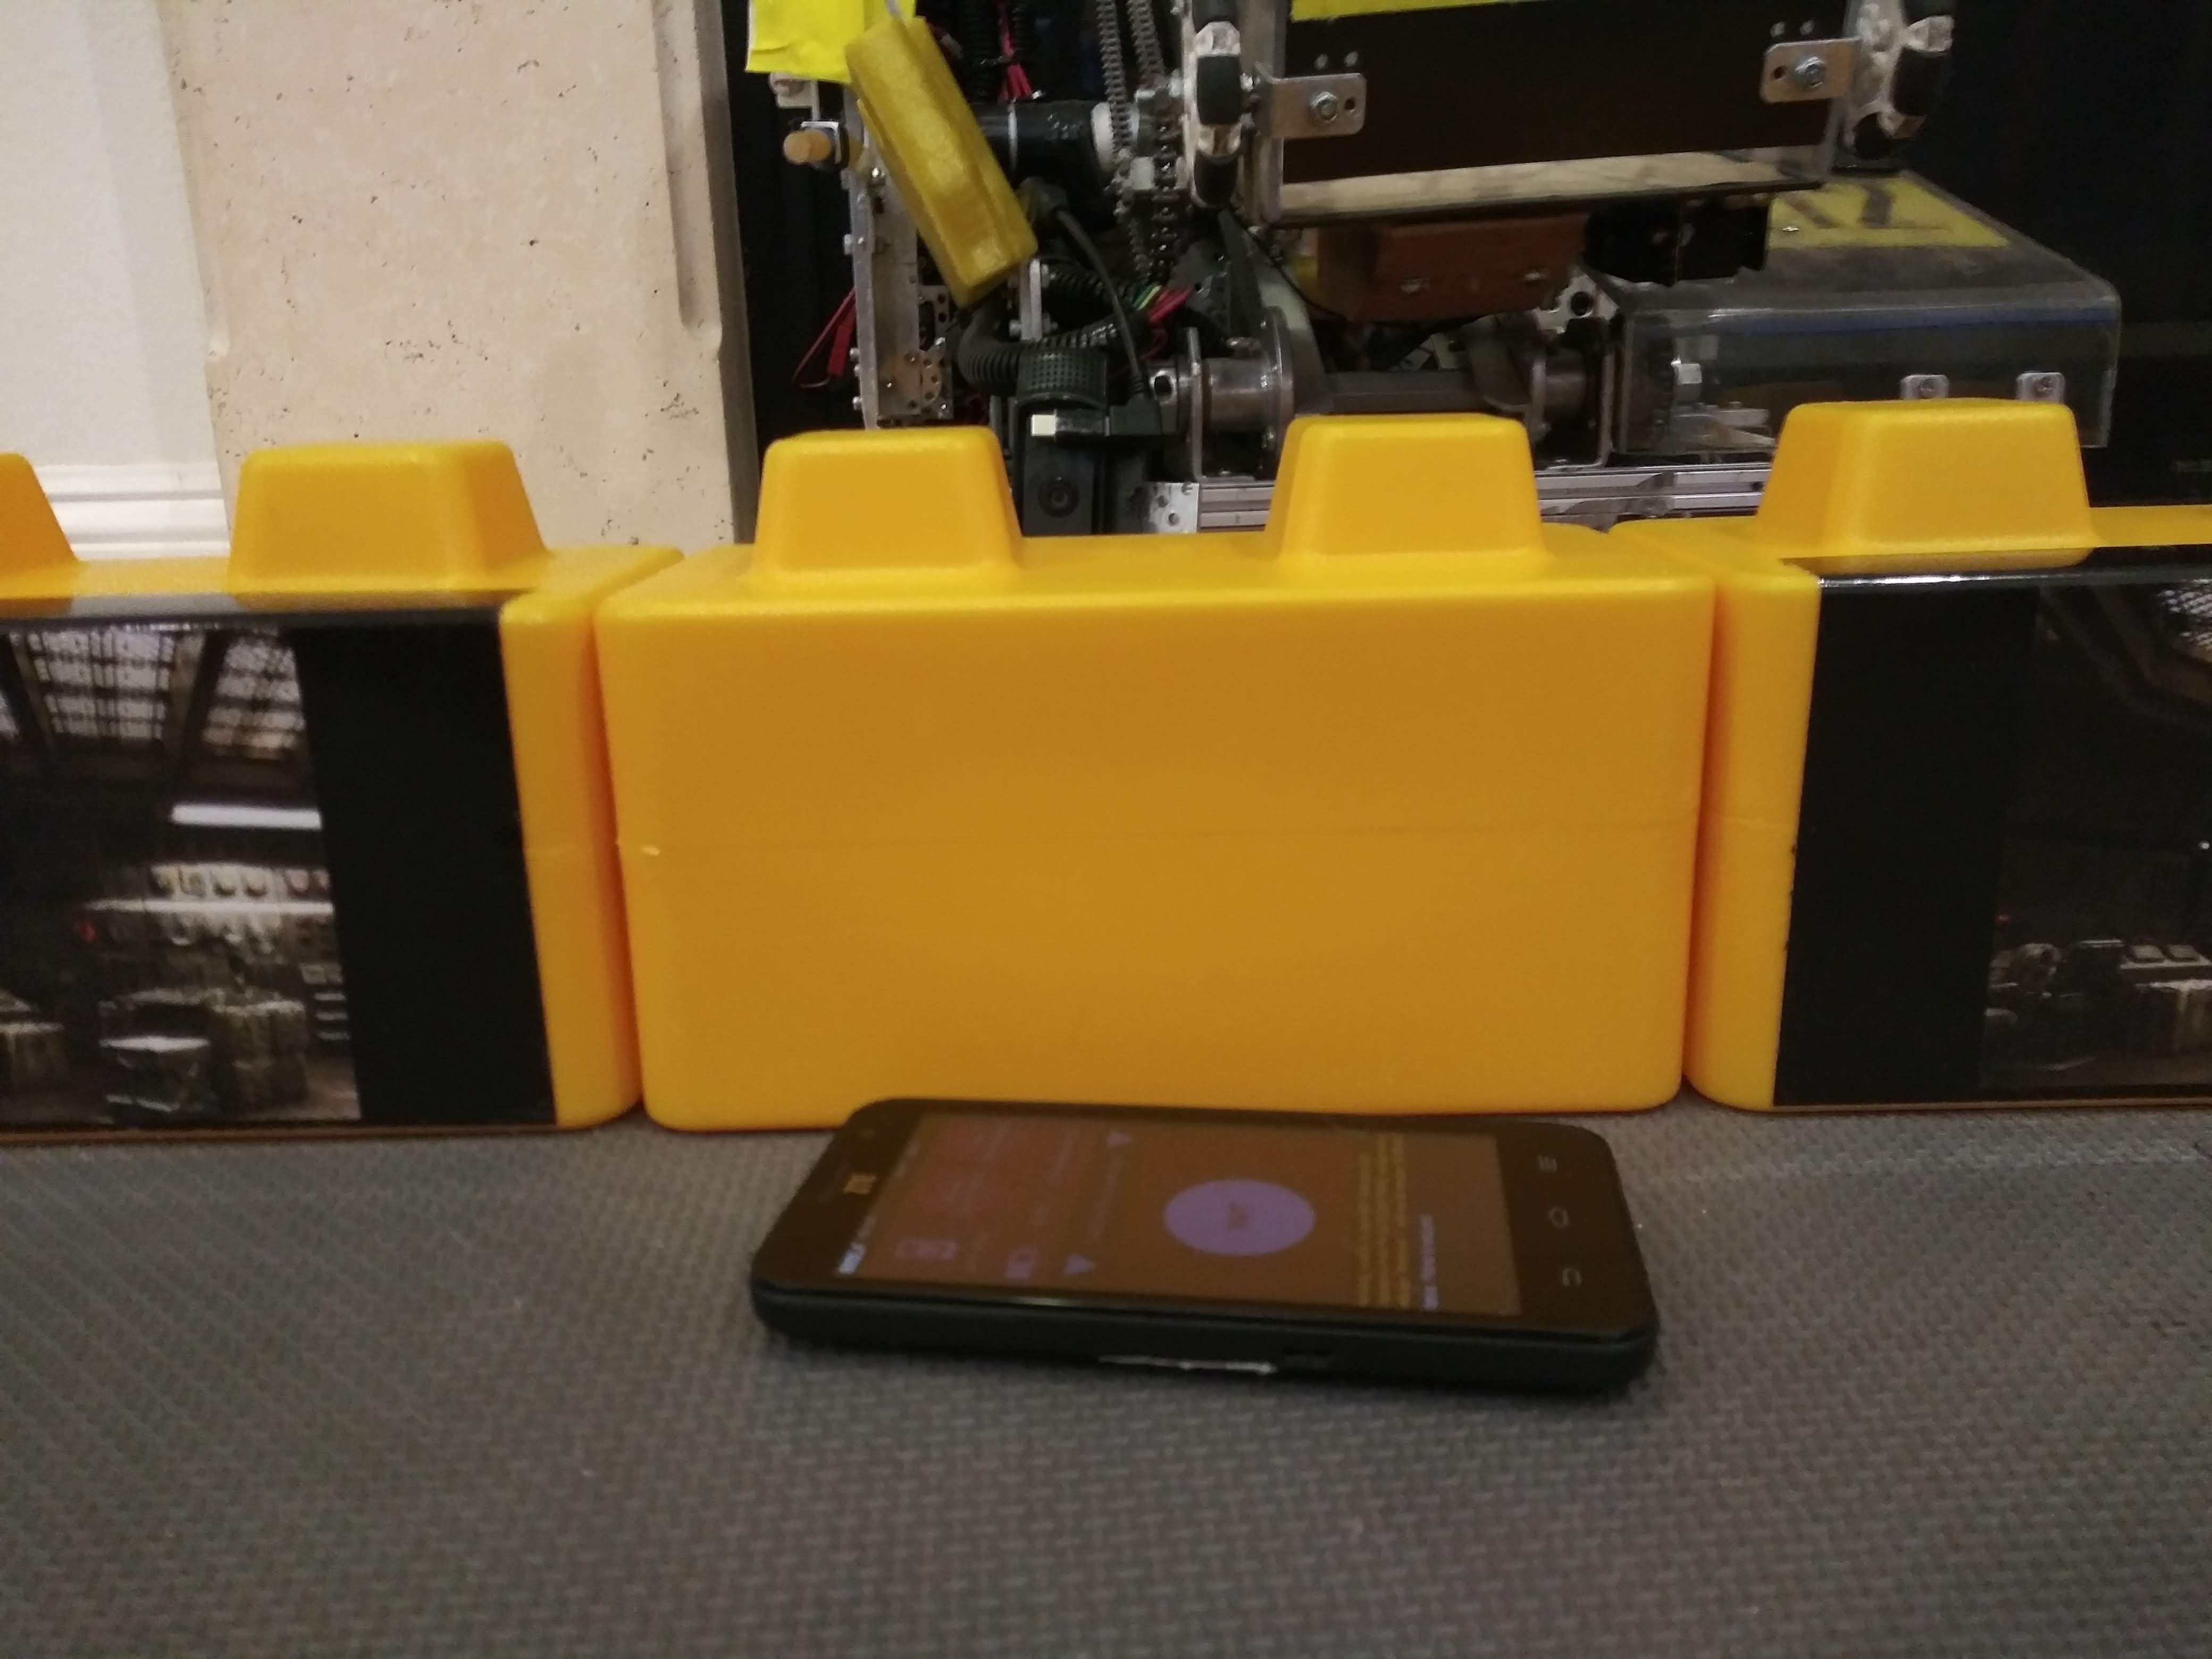skystone: (24, 526, 571, 1148), (1770, 469, 2205, 1096)
stone: (650, 500, 1660, 1108)
